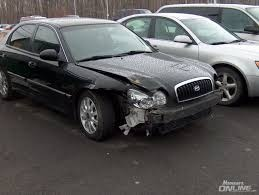Broken-glass: (212, 74, 220, 91)
Smashed: (109, 72, 170, 142)
